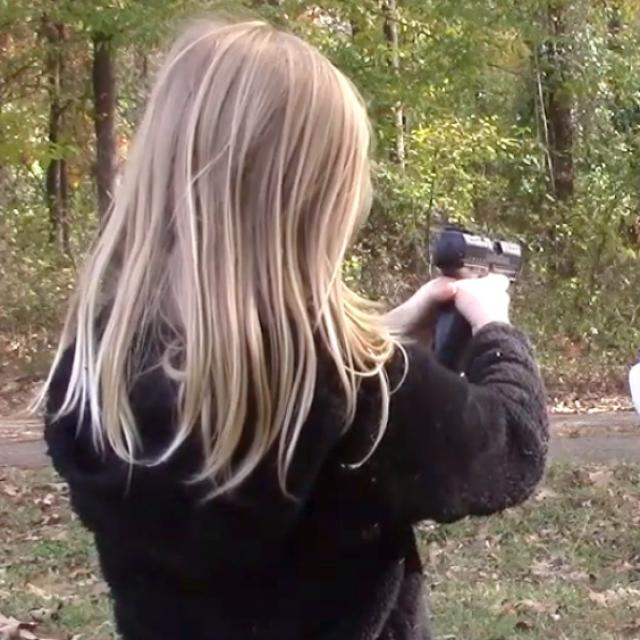gun: (40, 14, 568, 640), (428, 225, 526, 362)
